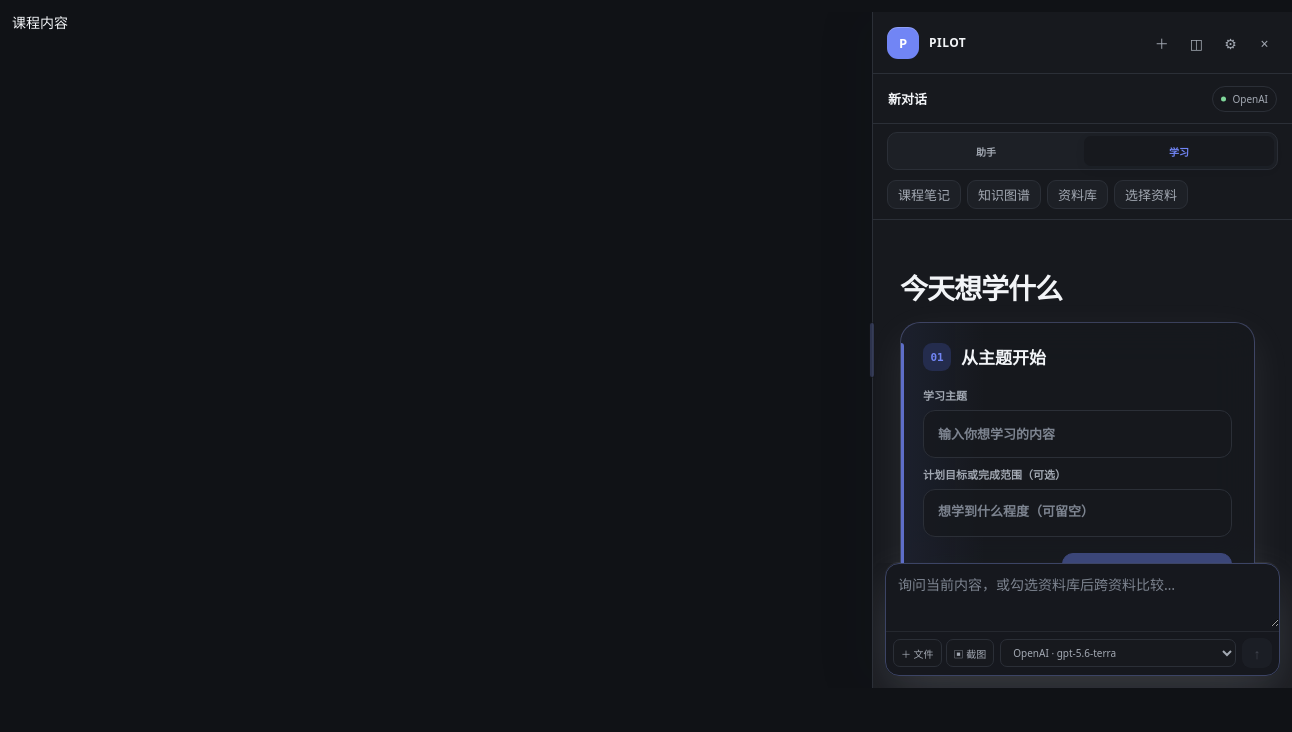
Test case: learning generation indicator disappears on the first delta and reveals content immediately
The width and height of the screenshot is (1292, 732).
In the text box named "向 PILOT 提问": {"x": 1082, "y": 595} [886, 564, 1279, 627], type "继续讲解"
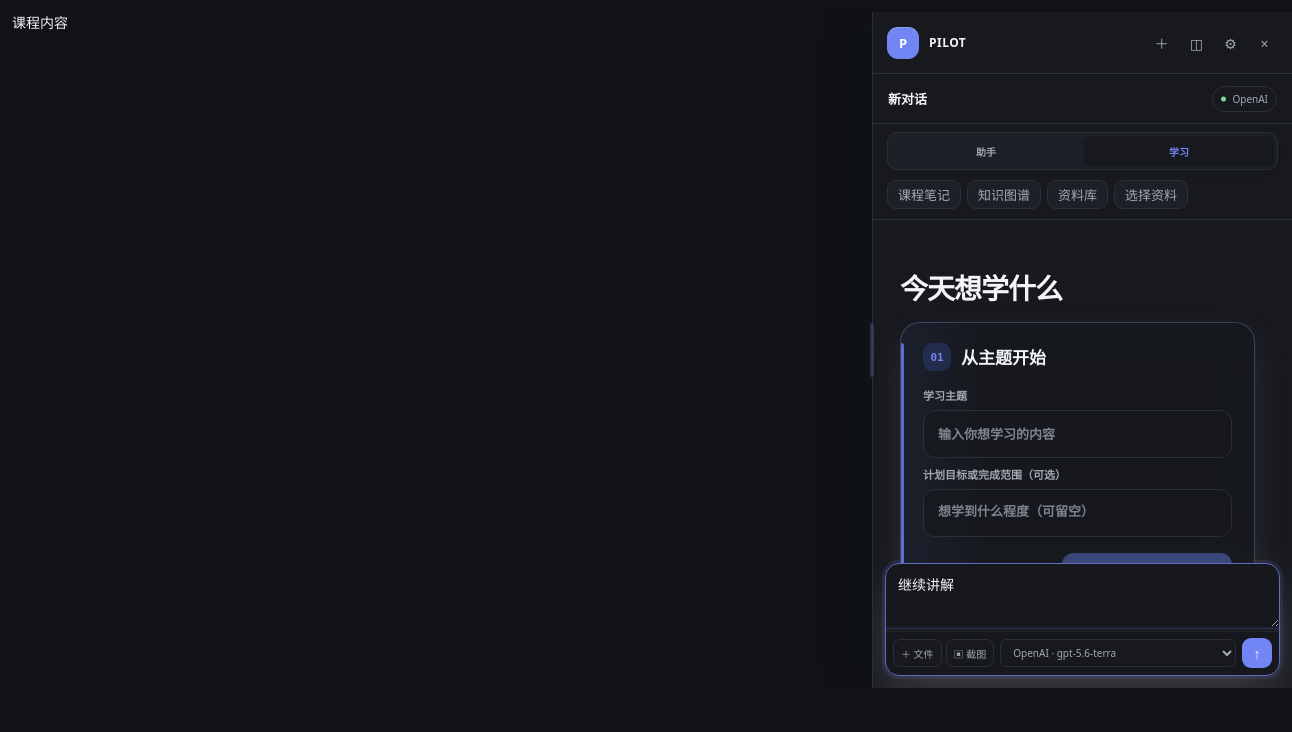
Press Enter in the text box named "向 PILOT 提问", box [886, 564, 1279, 627]
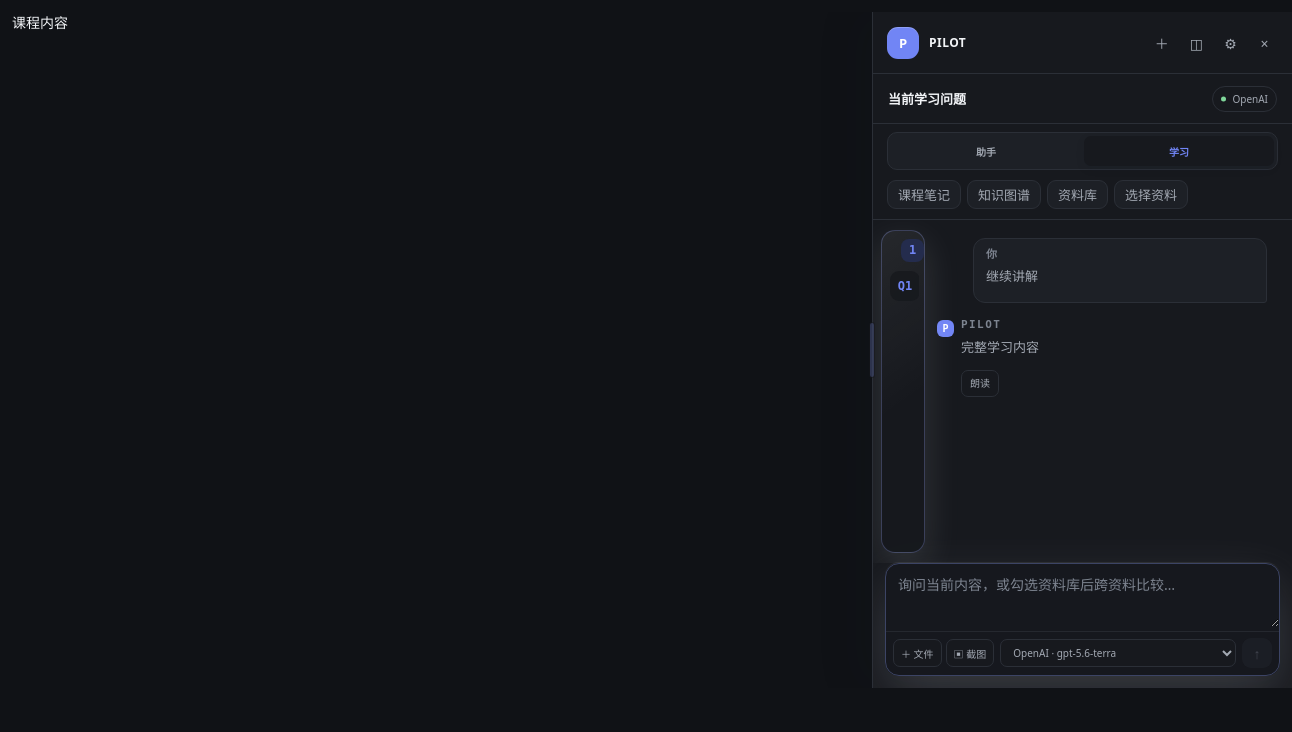
expect the text "完整学习内容" is shown: met, box [961, 338, 1039, 356]
